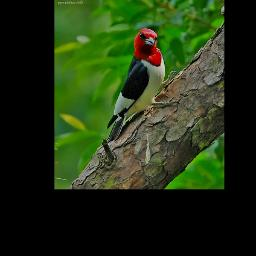Woodpecker: (103, 27, 176, 142)
